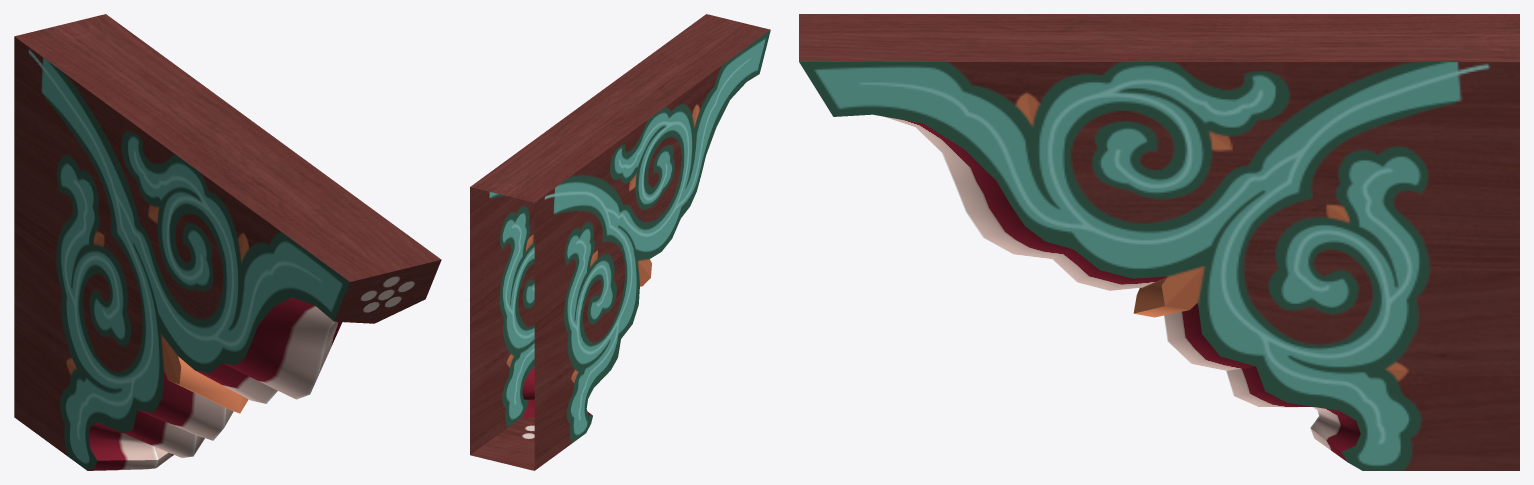
The model's file is SM_SJM_BoajiB_01.fbx.
3 views of the same model, side by side, from view 1: azimuth 30°, elevation 25°; view 2: azimuth 150°, elevation 25°; view 3: azimuth 270°, elevation 25° (orthographic). The views are drawn at different scales.
Visible parts, largest first — view 1: SM_SJM_BoajiB_01; view 2: SM_SJM_BoajiB_01; view 3: SM_SJM_BoajiB_01.
Boxes of the visible parts, bbox=[...] form: SM_SJM_BoajiB_01: bbox=[14, 14, 441, 470]; SM_SJM_BoajiB_01: bbox=[470, 14, 770, 470]; SM_SJM_BoajiB_01: bbox=[799, 14, 1519, 470].
Bounding box in the file's own units: 10 × 63.46 × 39.73.
1 material, 1 textured.
